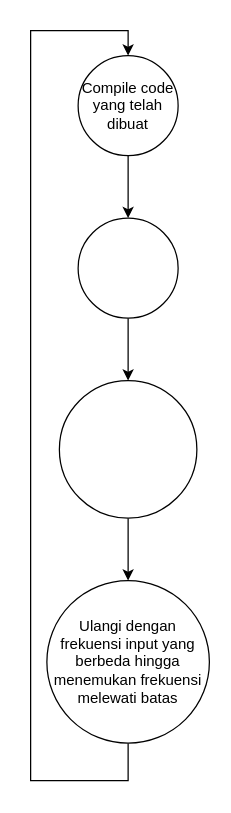
This 231x813 diagram has some shape labels left out. The centre of each missing label's shape, as x and y in pixels:
"Ambil data latency pulsa sebanyak 3 kali dan mencari rata ratanya" goes at [127,448].
"Jalankan programnya di ESP32" goes at [127,267].
